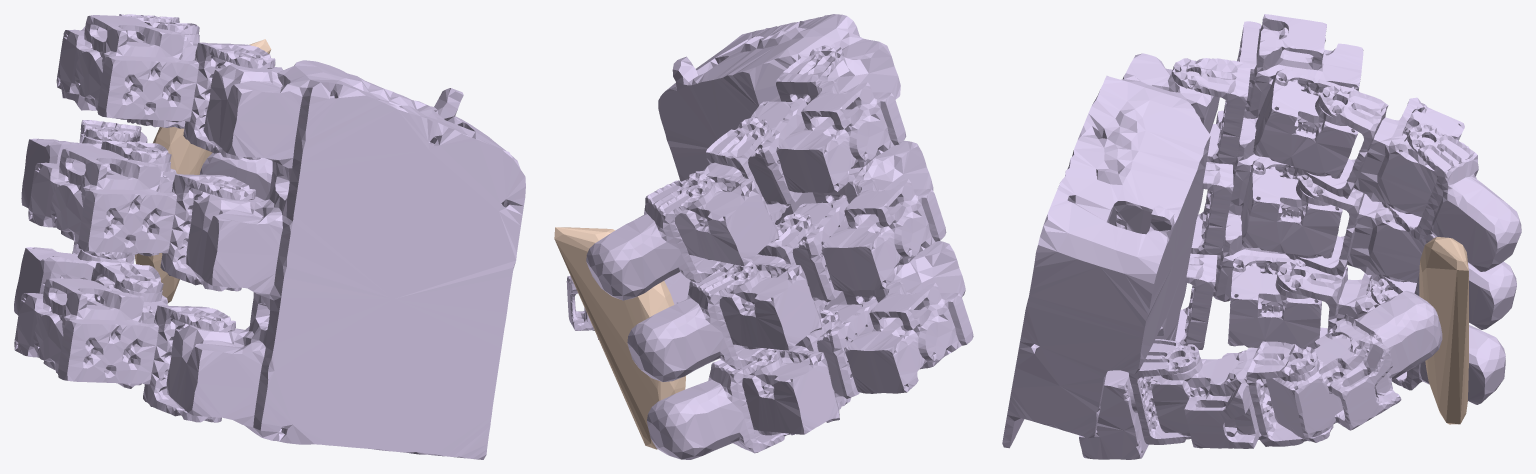
The model's file is ff35bf35c1b817-closed.glb.
3 views of the same model, side by side, from view 1: azimuth 30°, elevation 25°; view 2: azimuth 150°, elevation 25°; view 3: azimuth 270°, elevation 25° (orthographic). The views are drawn at different scales.
Visible parts, largest first — view 1: LEAP_hand, world; view 2: LEAP_hand, world; view 3: LEAP_hand, world.
Part boxes in pixels (bbox=[...]): LEAP_hand: bbox=[14, 14, 525, 459]; world: bbox=[135, 39, 271, 302]; LEAP_hand: bbox=[566, 14, 973, 459]; world: bbox=[554, 227, 685, 449]; LEAP_hand: bbox=[1002, 14, 1521, 459]; world: bbox=[1419, 237, 1468, 424].
Bounding box in the file's own units: 0.1565 × 0.1436 × 0.1939.
